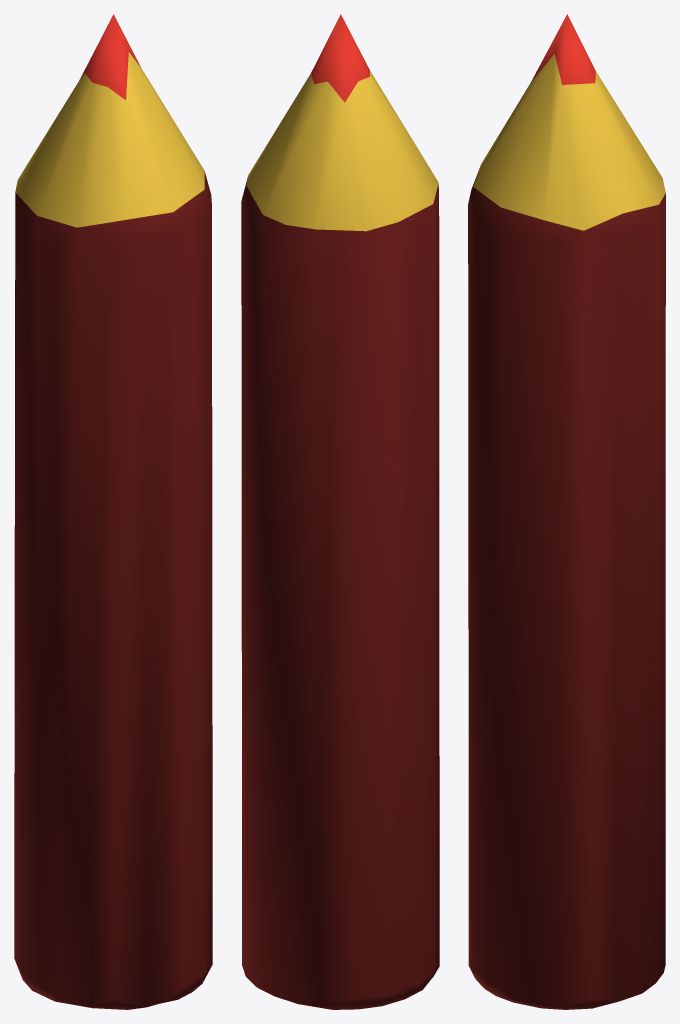
The model's file is Stift.fbx.
3 renders of one model, left to right at view 1: azimuth 30°, elevation 25°; view 2: azimuth 150°, elevation 25°; view 3: azimuth 270°, elevation 25°, orthographic.
Parts seen in each view (by area): view 1: Stift_LOD0; view 2: Stift_LOD0; view 3: Stift_LOD0.
Boxes of the visible parts, x1,y1,x2,y2 form: Stift_LOD0: [14, 14, 212, 1009]; Stift_LOD0: [241, 14, 439, 1009]; Stift_LOD0: [468, 14, 665, 1009].
Size of what is drawn, in the model's own units: 2.85 by 15.24 by 2.85.
